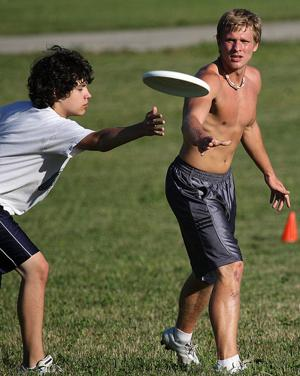person: (165, 11, 290, 374)
